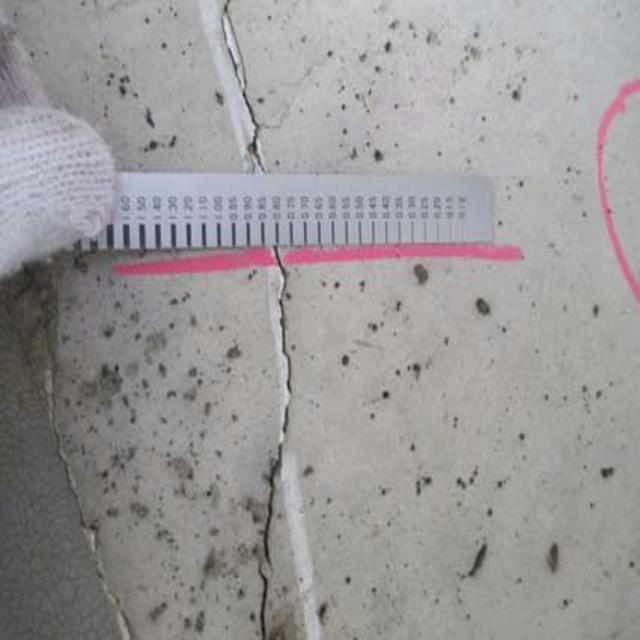crack: (236, 254, 311, 637), (211, 18, 280, 178)
